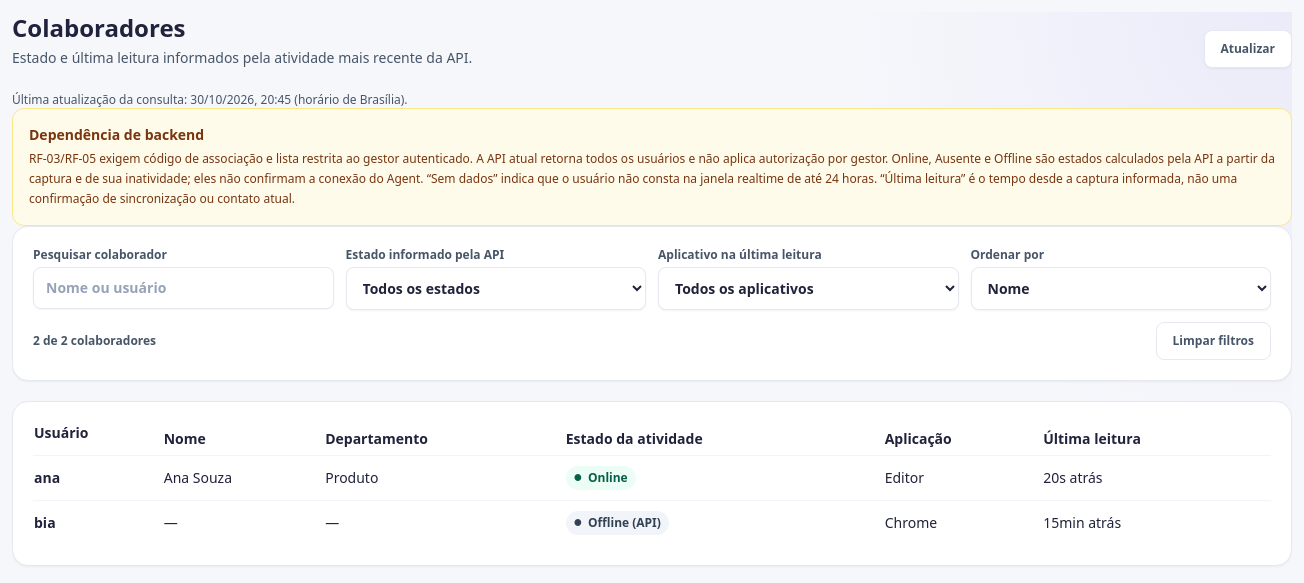
it: CollaboratorsPage › combina pesquisa, estado e aplicativo, mostra contagem e limpa os filtros
Check: the text "2 de 2 colaboradores" is shown, box [33,333,156,349]
Check: the table named "Usuários cadastrados na API" shows "20s atrás", box [1043,468,1102,487]
Type "BIA" into the search field labelled "Pesquisar colaborador". click: [183, 288]
box: [33,267,334,309]
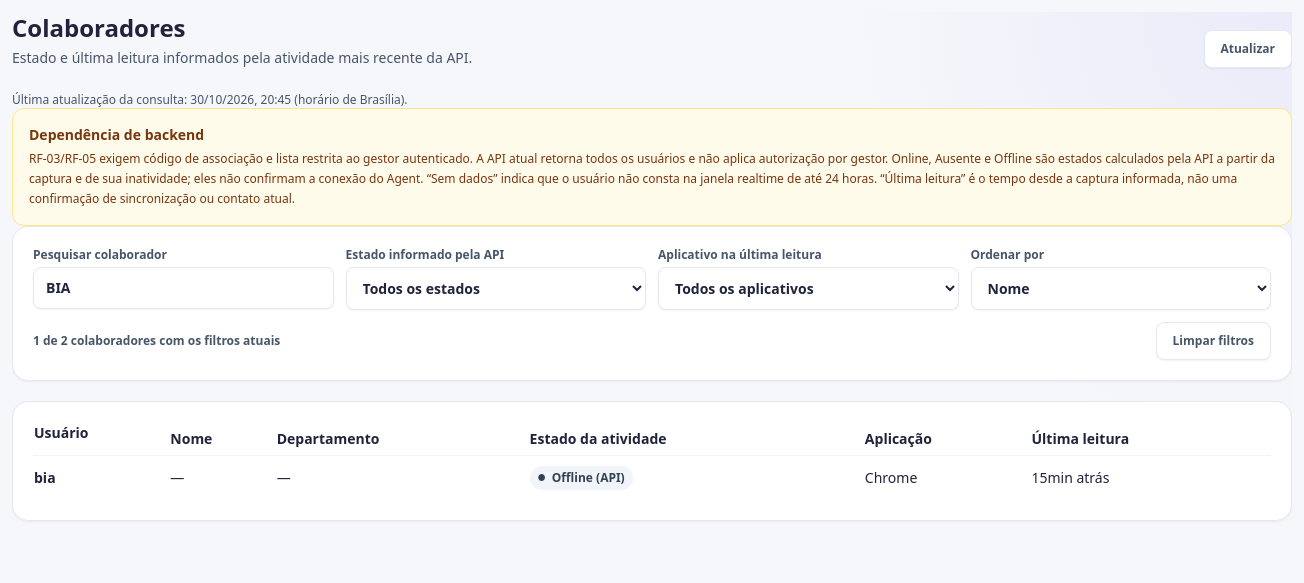
Select "Offline (API)" in the dropdown labelled "Estado informado pela API". click: [496, 288]
box: [346,267,646,310]
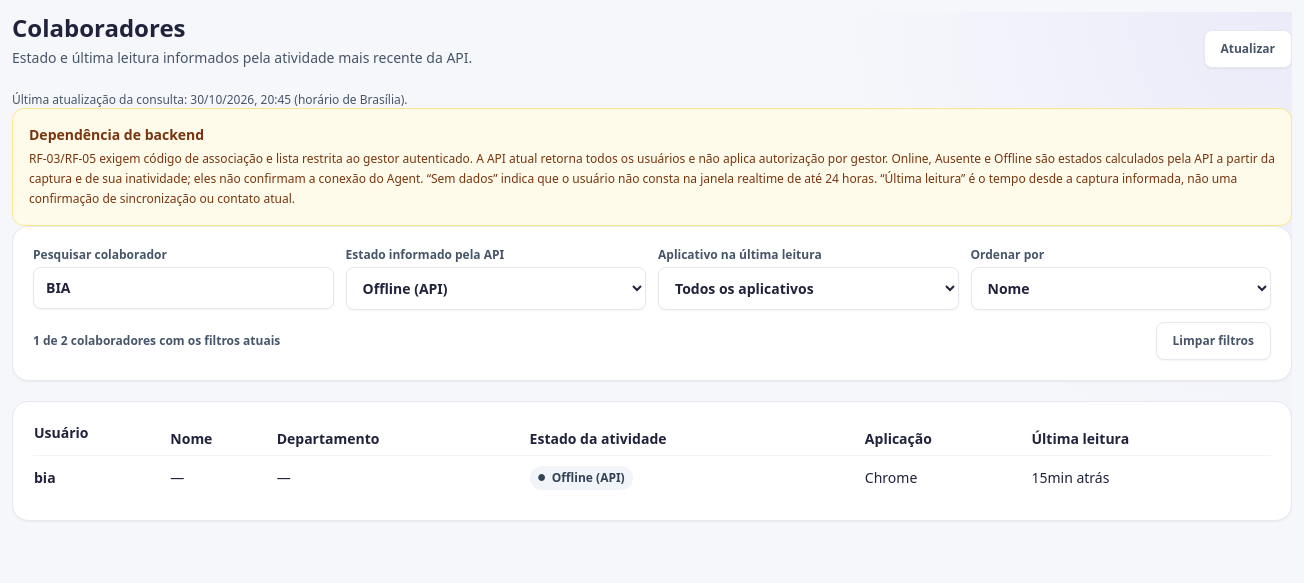
Select "Chrome" in the dropdown labelled "Aplicativo na última leitura". click: [808, 288]
box: [658,267,958,310]
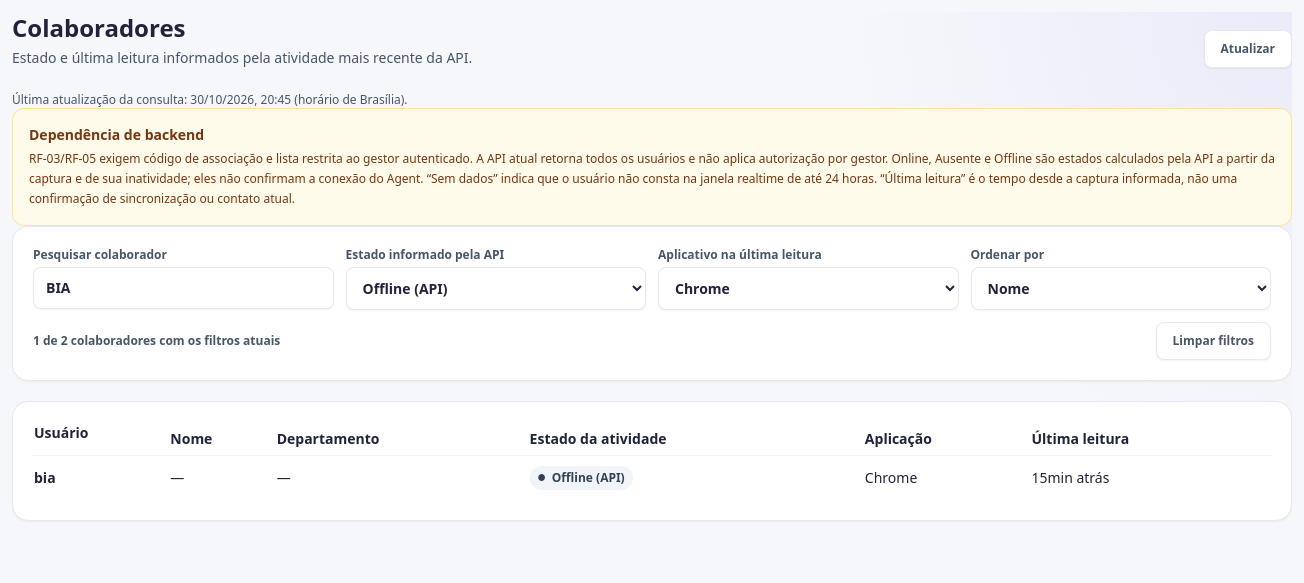
Select "Leitura mais antiga" in the dropdown labelled "Ordenar por". click: [1121, 288]
box: [970,267,1271,310]
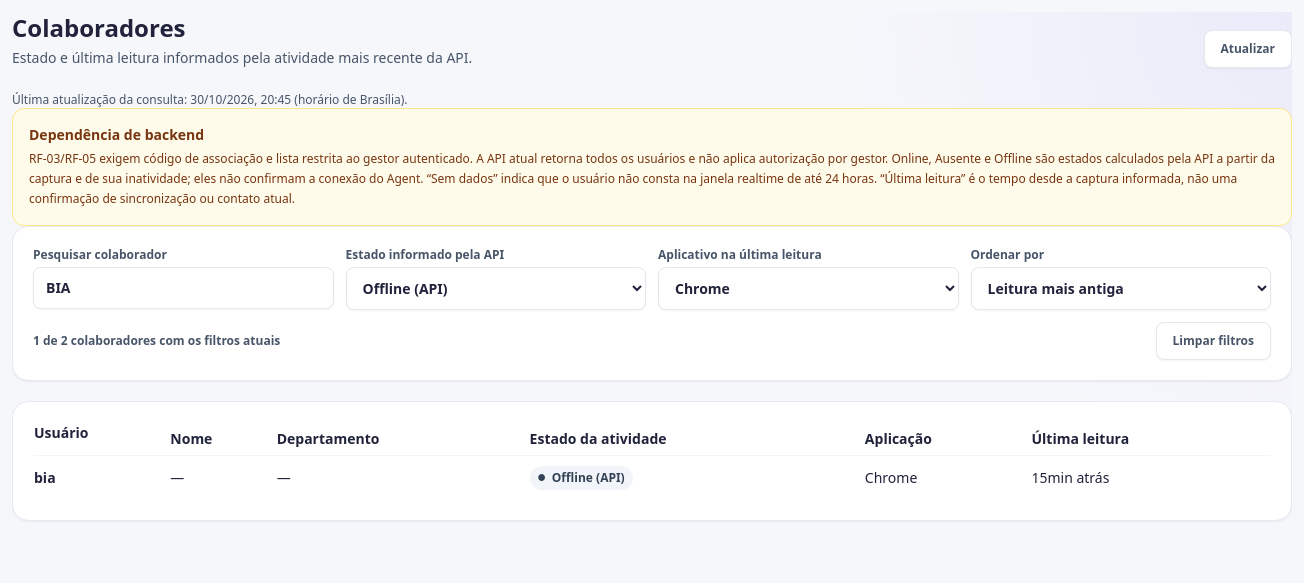
Check: the table shows "bia", box [34,468,56,487]
Check: the text "1 de 2 colaboradores com os filtros atuais" is shown, box [33,333,280,349]
Check: the table does not show "ana", box [33,422,1271,500]
Click the button "Limpar filtros". click: [1213, 341]
box: [1156,322,1271,360]
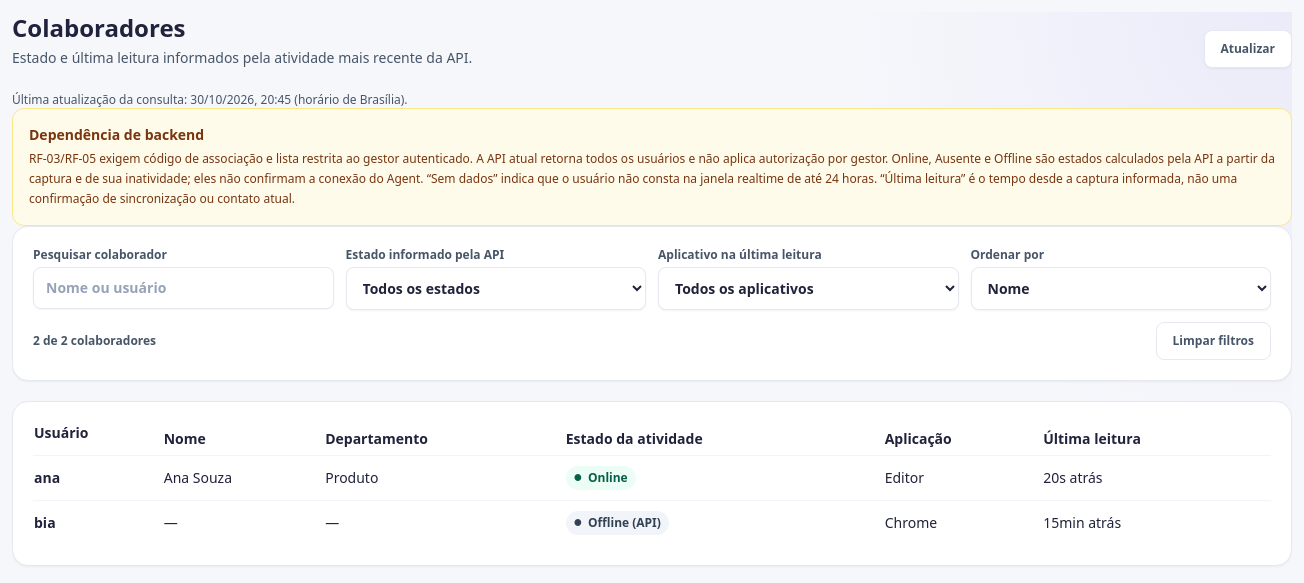
Check: the table shows "bia", box [34,513,56,532]
Check: the text "2 de 2 colaboradores" is shown, box [33,333,156,349]
Check: the table shows "ana", box [34,468,60,487]
